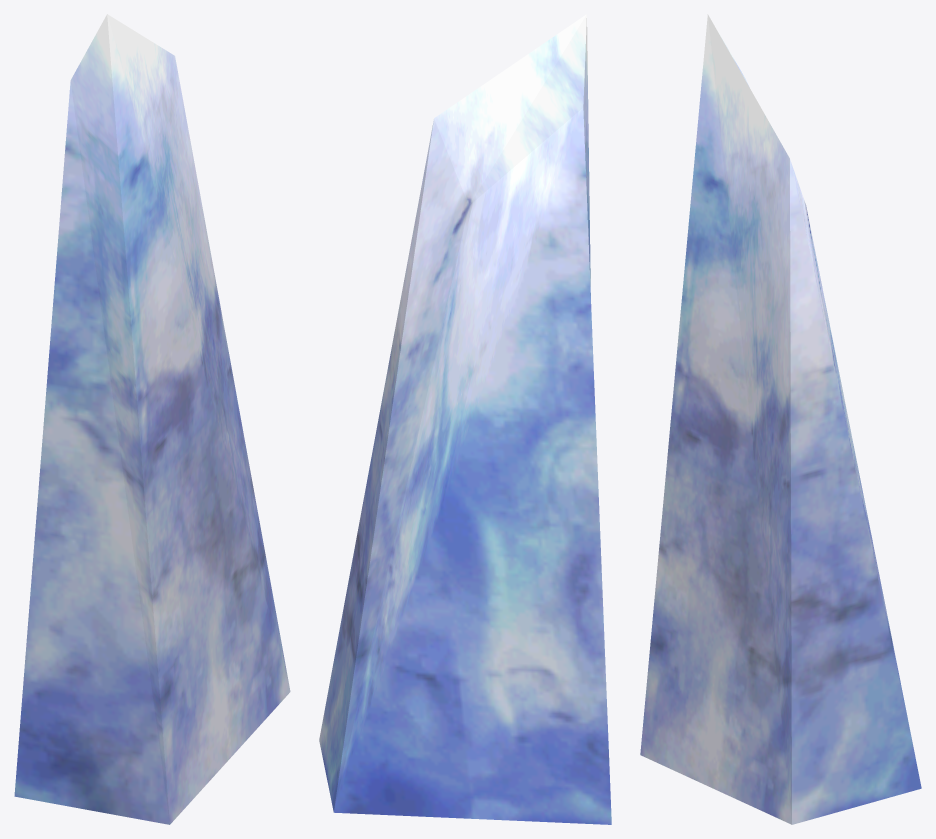
Rendered from icestalagmite05.glb.
3 renders of one model, left to right at view 1: azimuth 30°, elevation 25°; view 2: azimuth 150°, elevation 25°; view 3: azimuth 270°, elevation 25°, orthographic. The views are drawn at different scales.
Parts seen in each view (by area): view 1: icestalagmite05; view 2: icestalagmite05; view 3: icestalagmite05.
Boxes of the visible parts, x1=… form: icestalagmite05: x1=14, y1=14, x2=290, y2=824; icestalagmite05: x1=319, y1=14, x2=611, y2=824; icestalagmite05: x1=640, y1=14, x2=921, y2=824.
Bounding box in the file's own units: 1114 × 2928 × 1021.
1 material, 1 textured.
